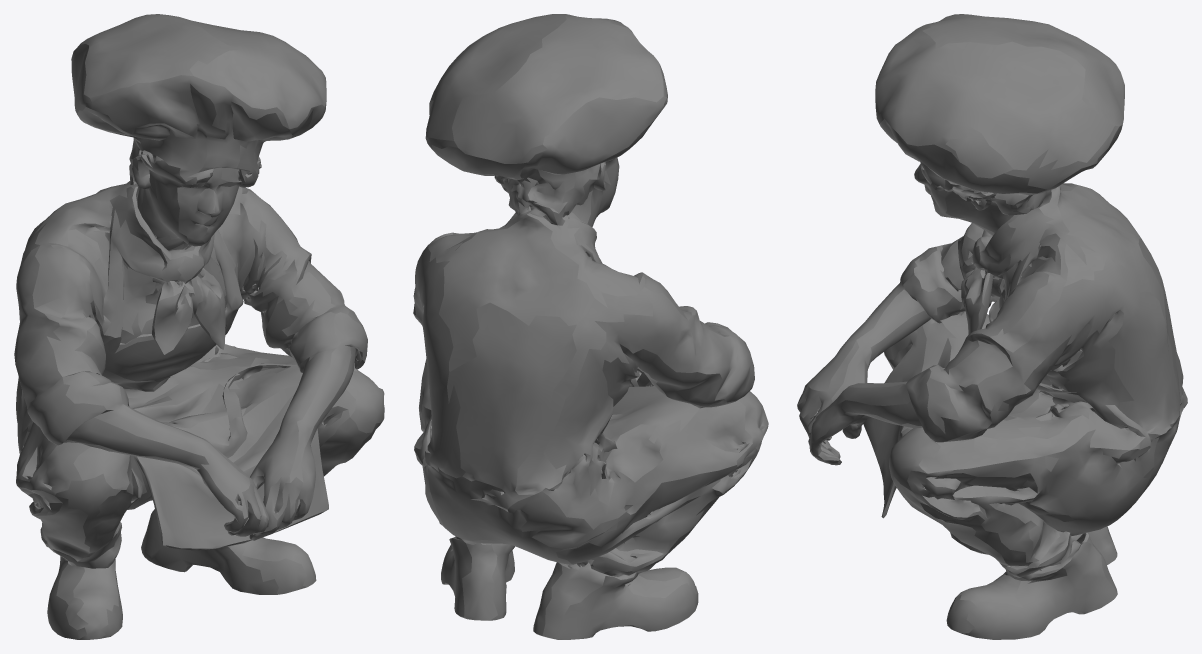
Rendered from completion_chef_2.glb.
3 views of the same model, side by side, from view 1: azimuth 30°, elevation 25°; view 2: azimuth 150°, elevation 25°; view 3: azimuth 270°, elevation 25° (orthographic). The views are drawn at different scales.
Visible parts, largest first — view 1: geometry_0; view 2: geometry_0; view 3: geometry_0.
Boxes of the visible parts, x1=… form: geometry_0: x1=14, y1=14, x2=384, y2=639; geometry_0: x1=413, y1=14, x2=768, y2=639; geometry_0: x1=797, y1=14, x2=1187, y2=639.
Size of the model in its own units: 0.6291 by 1 by 0.6402.
1 material, 1 textured.
